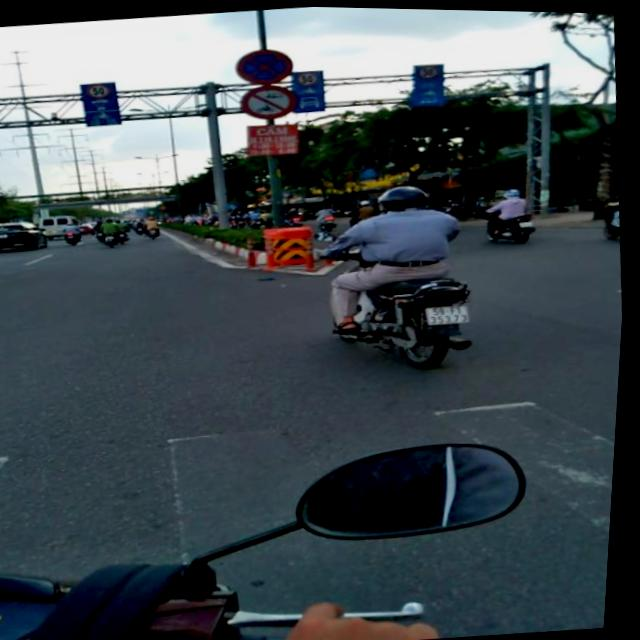Cam dung xe va do xe: (232, 44, 296, 86)
Toc do toi da cho phep: (86, 82, 112, 98), (295, 70, 320, 85), (416, 62, 441, 77)
